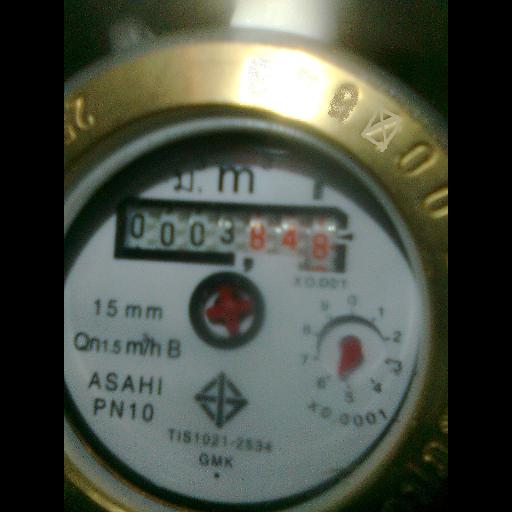0: (125, 208, 150, 248), (157, 211, 180, 251), (187, 213, 210, 252)
3: (216, 215, 239, 254)
4: (279, 217, 300, 256)
8: (310, 216, 336, 272), (248, 216, 269, 255)
border_water_meter_number: (112, 197, 348, 274)
